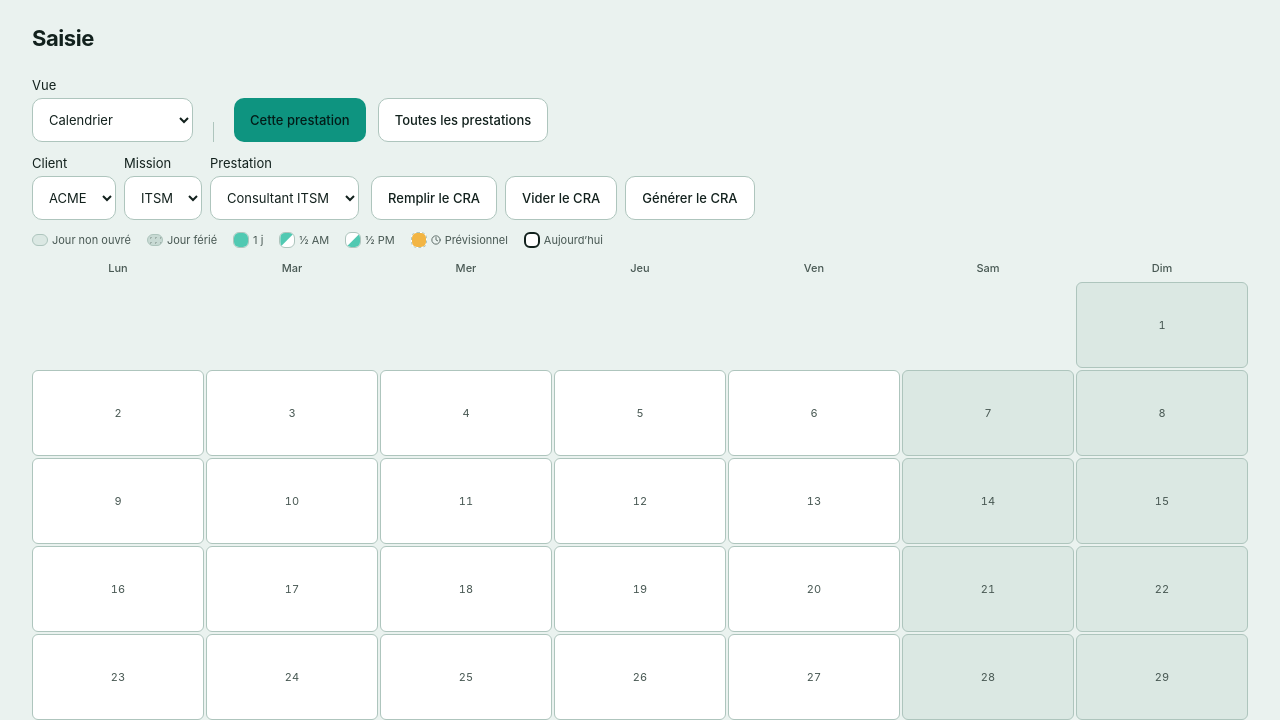
Test: page de saisie — plus de lecture automatique de l agenda › affiche la grille sans marques et laisse saisir normalement
This screenshot has width=1280, height=720.
Click the button with test id "case-2026-03-12": [640, 501] box [554,458,726,544]
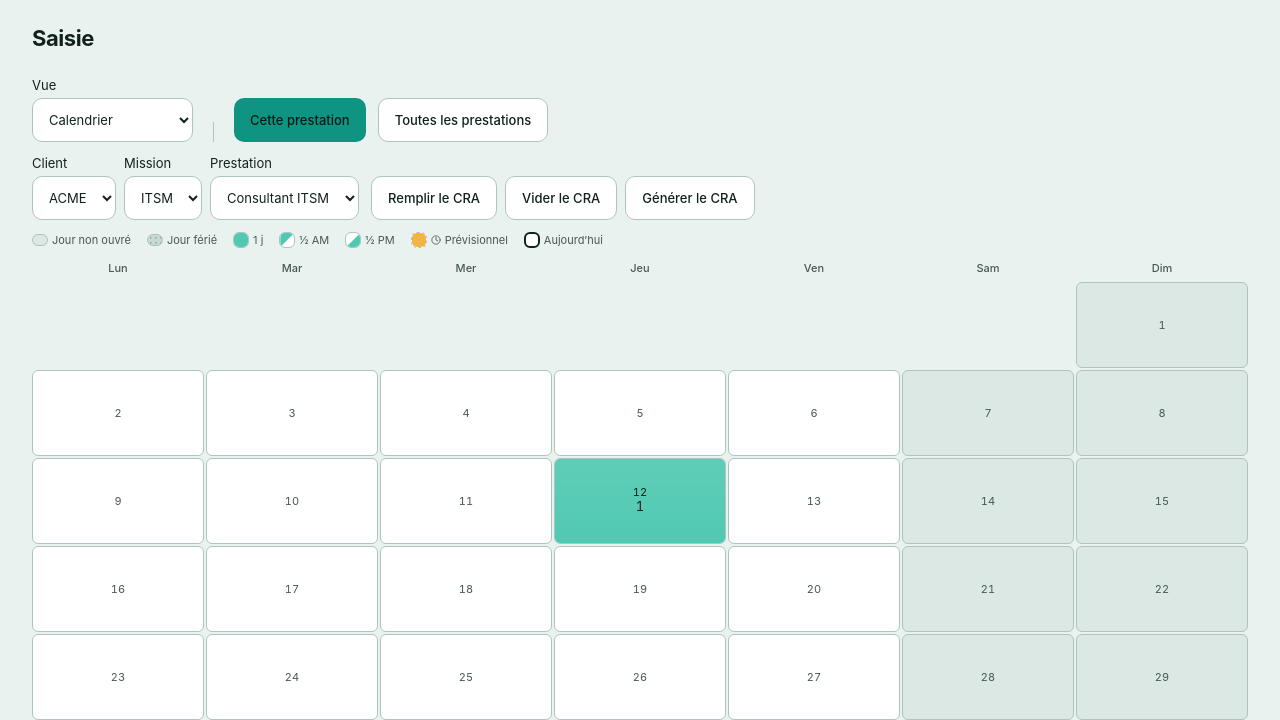
Expected: the text with test id "valeur-2026-03-12" reads "1", [636,498,644,514]
